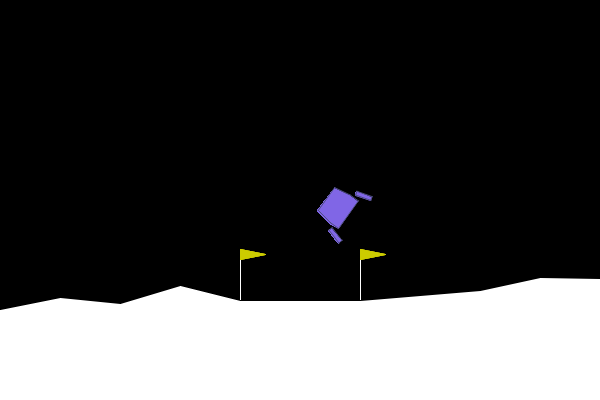lander: (307, 174, 374, 246)
